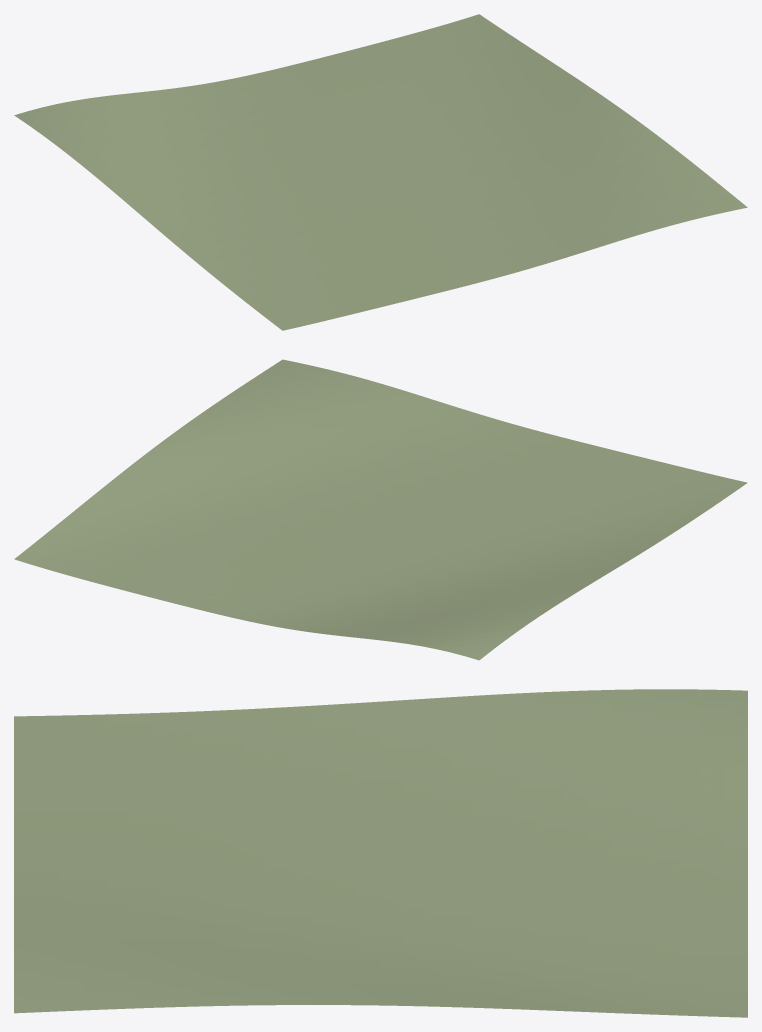
The model's file is desert-7-10.glb.
The picture shows the model from 3 angles, top to bottom: view 1: azimuth 30°, elevation 25°; view 2: azimuth 150°, elevation 25°; view 3: azimuth 270°, elevation 25°; orthographic projection. The views are drawn at different scales.
Parts seen in each view (by area): view 1: desert-7-10; view 2: desert-7-10; view 3: desert-7-10.
Boxes of the visible parts, left/top/right/bottom form: desert-7-10: left=14, top=14, right=747, bottom=330; desert-7-10: left=14, top=359, right=747, bottom=660; desert-7-10: left=14, top=689, right=747, bottom=1017.
Size of the model in its own units: 512 by 21.44 by 512.
